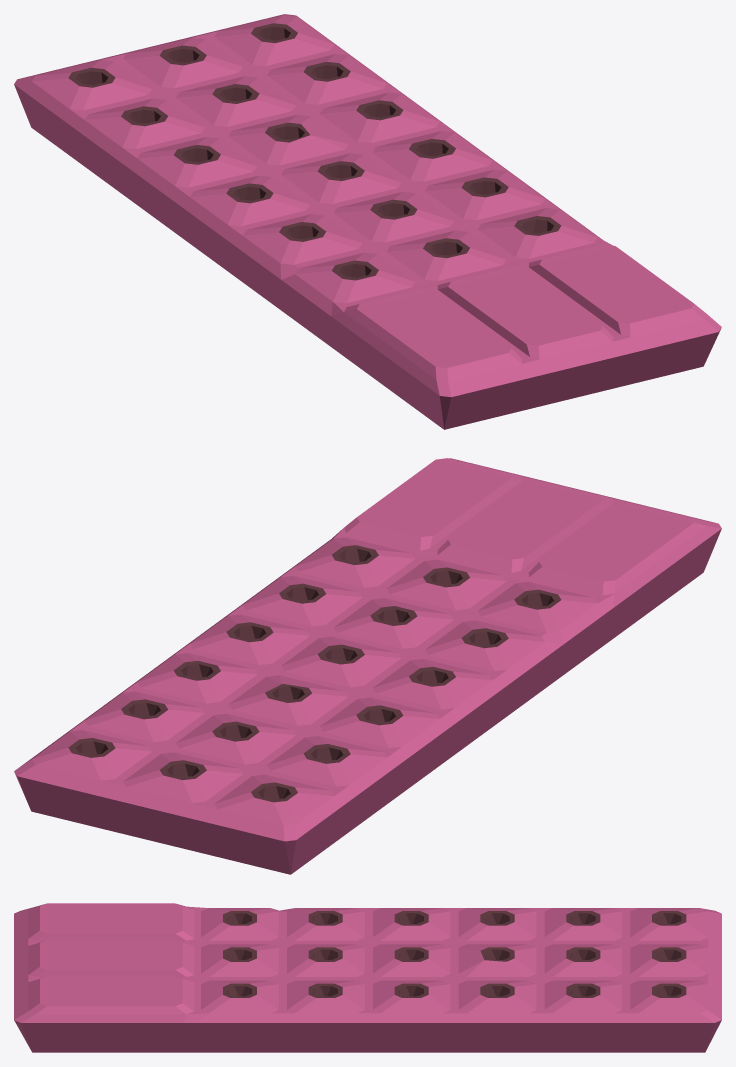
File: beach-mat-inflatable-a.glb
3 renders of one model, top to bottom at view 1: azimuth 30°, elevation 25°; view 2: azimuth 150°, elevation 25°; view 3: azimuth 270°, elevation 25°, orthographic. The views are drawn at different scales.
Visible parts, largest first — view 1: mat-inflatable-a; view 2: mat-inflatable-a; view 3: mat-inflatable-a.
Boxes of the visible parts, x1,y1,x2,y2 form: mat-inflatable-a: (14, 14, 721, 429); mat-inflatable-a: (14, 458, 721, 874); mat-inflatable-a: (14, 903, 721, 1052).
Bounding box in the file's own units: 0.8511 × 0.1636 × 2.27.
